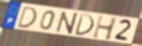0: (39, 10, 57, 32)
2: (113, 19, 133, 43)
D: (16, 5, 38, 29), (73, 13, 95, 37)
H: (92, 14, 119, 41)
N: (55, 11, 80, 35)
